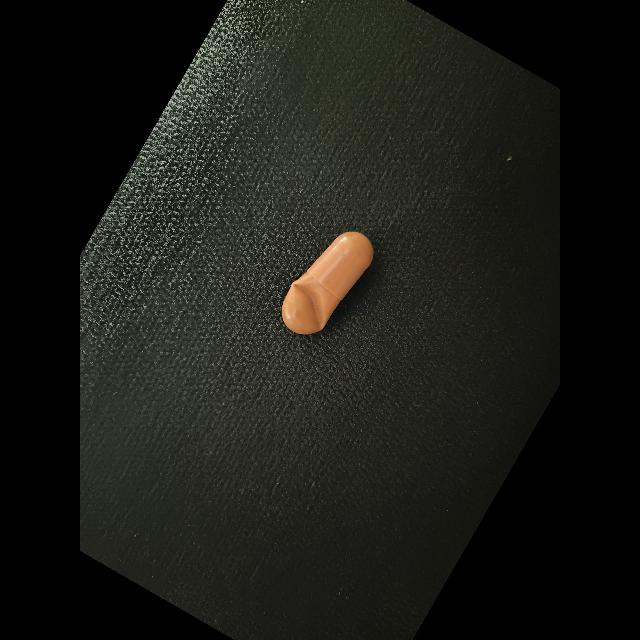Defective Capsule: (291, 281, 325, 331)
